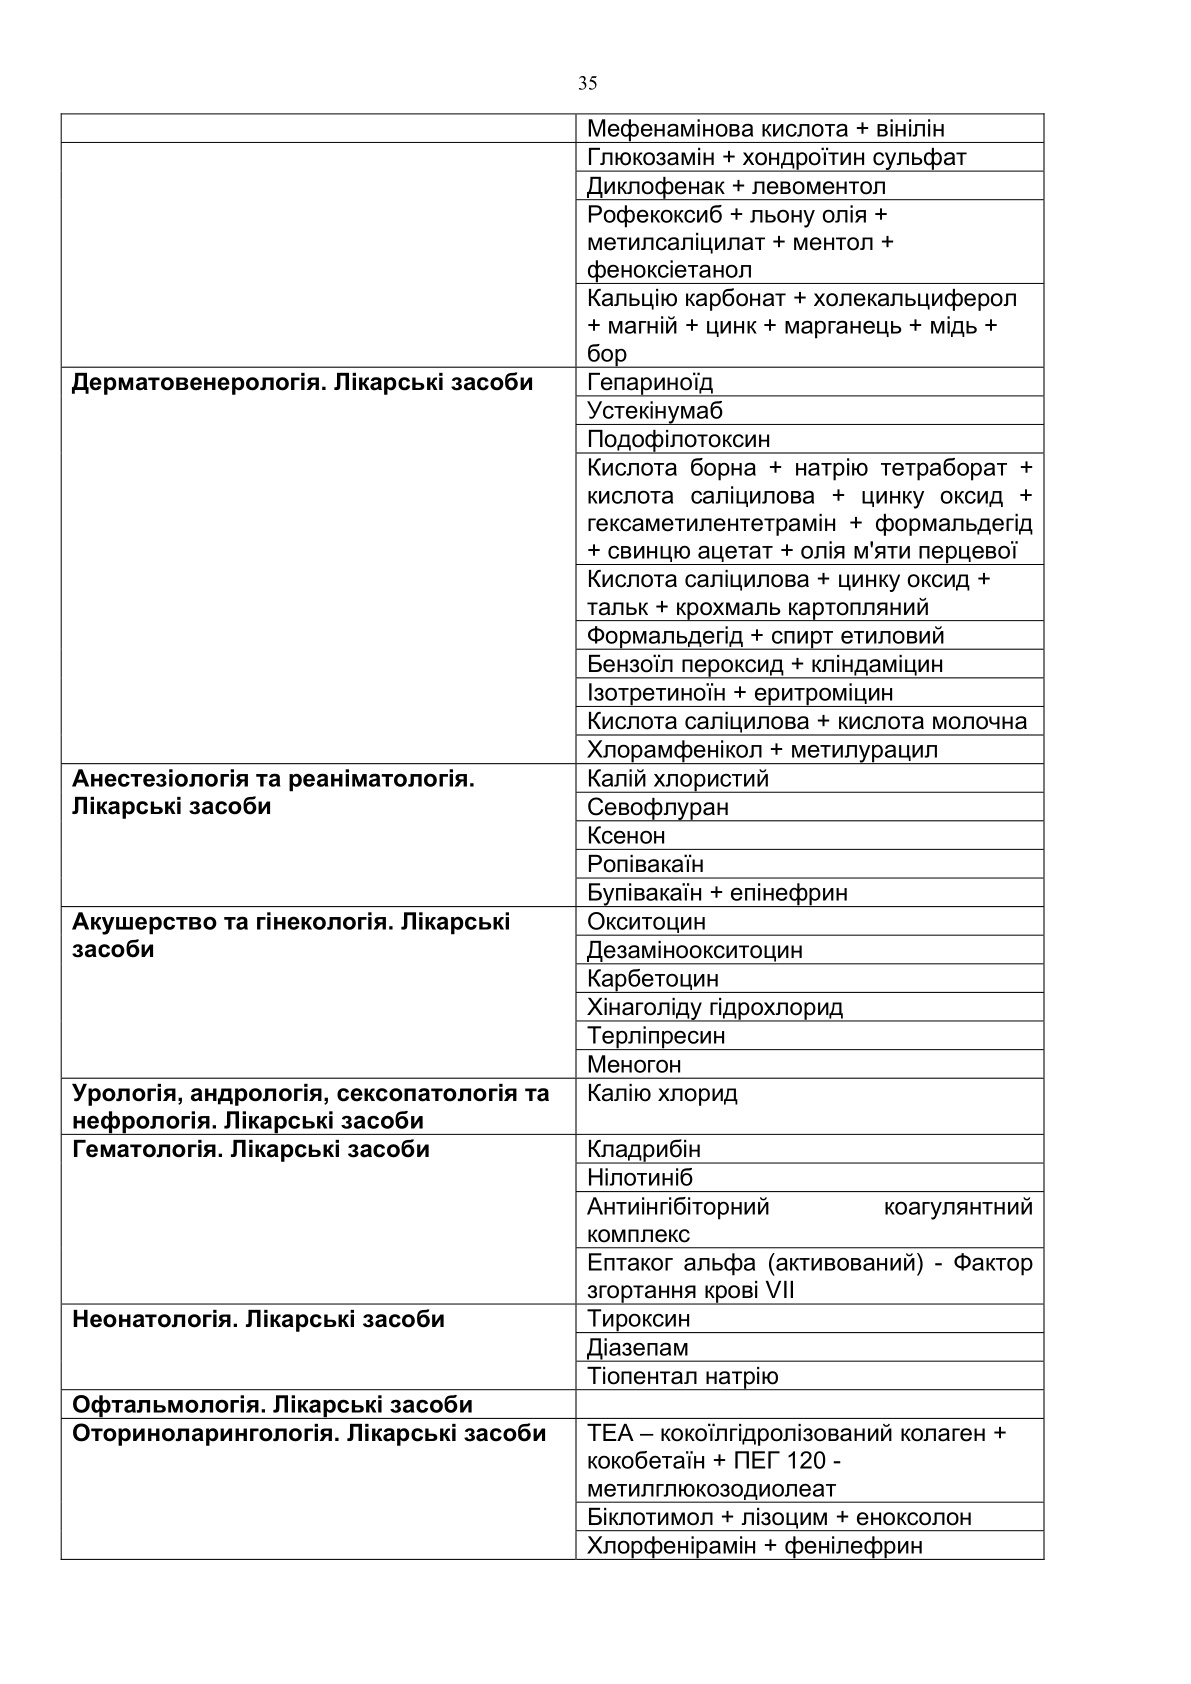merged_cells: (61, 112, 1045, 1562)
